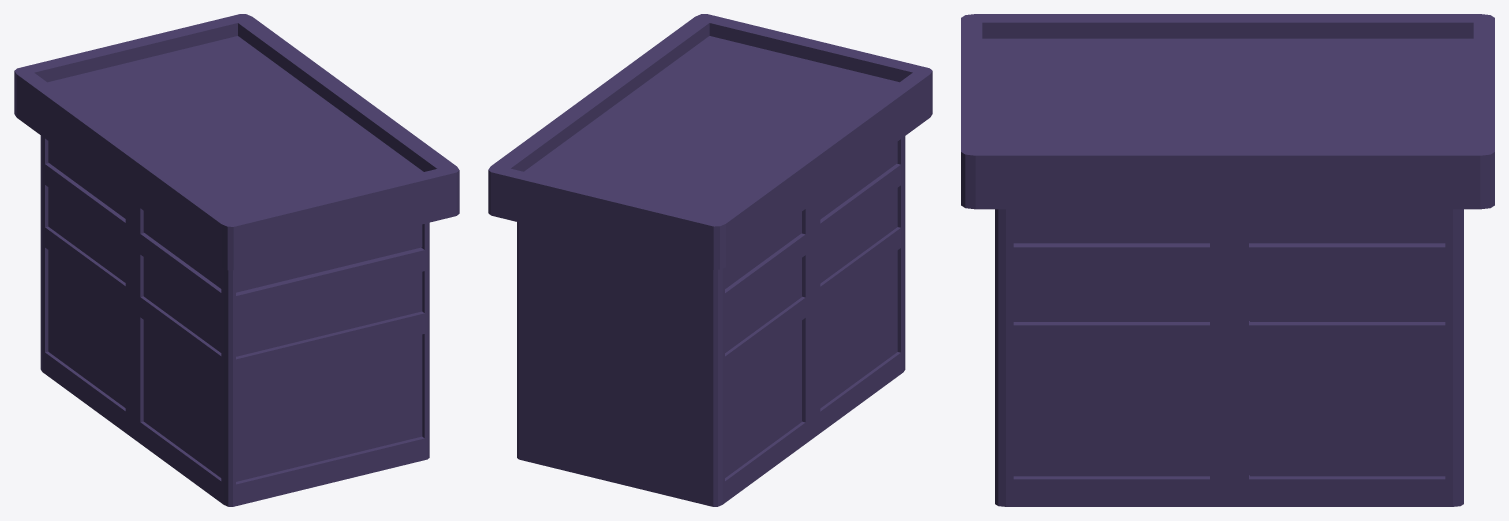
File: batiment_A.fbx
3 renders of one model, left to right at view 1: azimuth 30°, elevation 25°; view 2: azimuth 150°, elevation 25°; view 3: azimuth 270°, elevation 25°, orthographic. The views are drawn at different scales.
Visible parts, largest first — view 1: Toit1, Toit1.001; view 2: Toit1, Toit1.001; view 3: Toit1, Toit1.001.
Part boxes in pixels (box(x1,y1,x2,y2)): Toit1: box(14, 14, 459, 506); Toit1.001: box(48, 141, 422, 481); Toit1: box(488, 14, 932, 506); Toit1.001: box(725, 142, 897, 477); Toit1: box(961, 14, 1494, 506); Toit1.001: box(1013, 209, 1445, 476).
Bounding box in the file's own units: 216 × 257 × 344.
